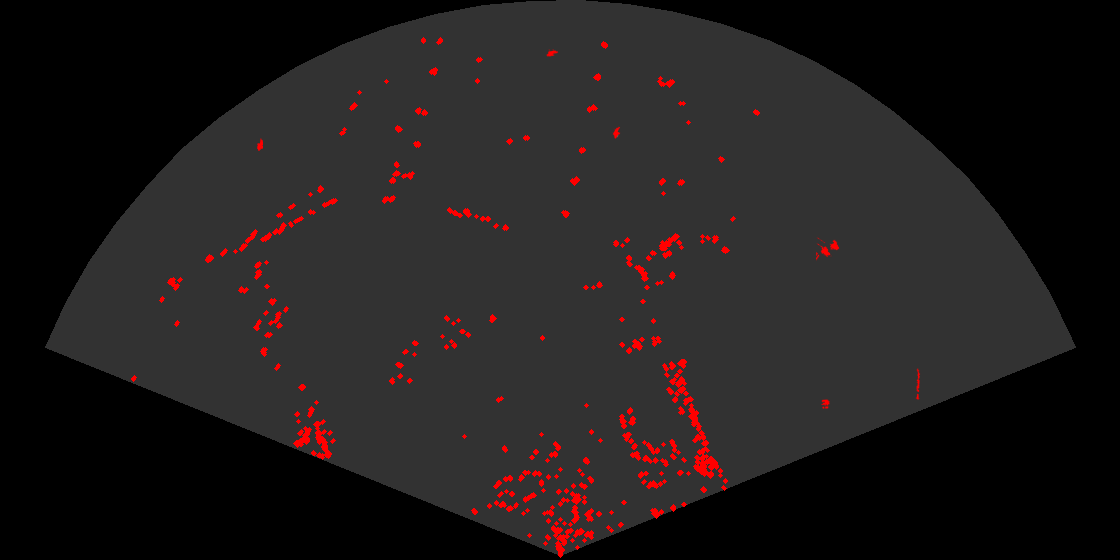AUV: (611, 125, 622, 141), (545, 49, 560, 58), (256, 137, 263, 152)
ball: (820, 398, 831, 410)
cage: (816, 236, 841, 262)
chain: (914, 368, 922, 400)
